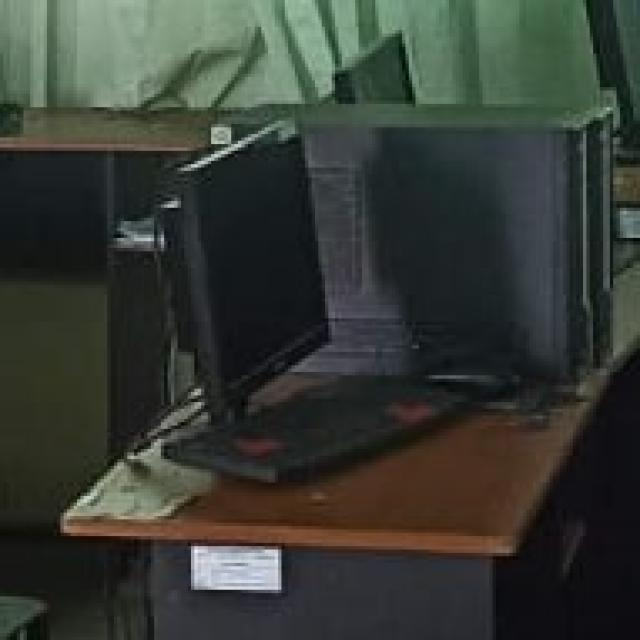offscreen: (178, 119, 332, 415)
